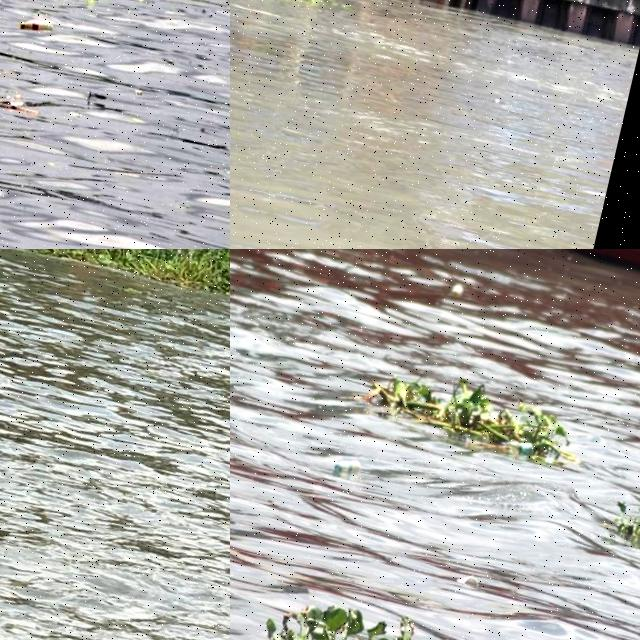water-hyacinth: (1, 250, 231, 388), (364, 362, 578, 466), (251, 599, 542, 640), (25, 1, 231, 58), (1, 17, 99, 127), (1, 1, 55, 72), (231, 1, 322, 33), (597, 496, 640, 558), (1, 1, 31, 44)
